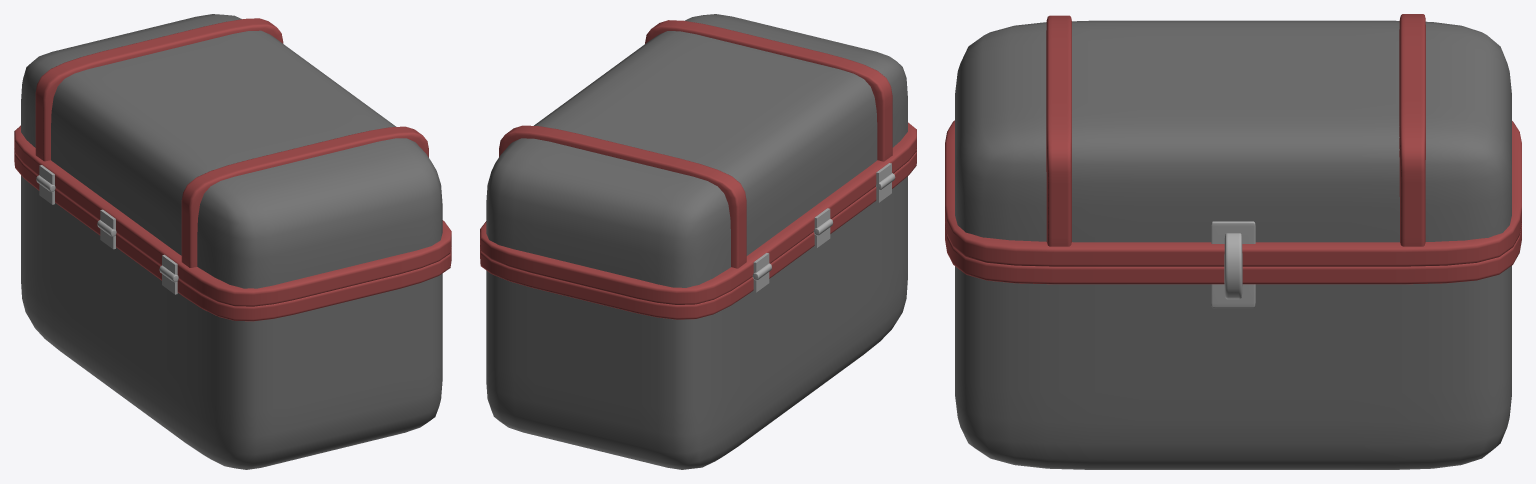
File: Chest_2.fbx
The picture shows the model from 3 angles, left to right: view 1: azimuth 30°, elevation 25°; view 2: azimuth 150°, elevation 25°; view 3: azimuth 270°, elevation 25°; orthographic projection. The views are drawn at different scales.
Visible parts, largest first — view 1: Chest_2; view 2: Chest_2; view 3: Chest_2.
Part boxes in pixels (bbox=[...]): Chest_2: bbox=[14, 14, 451, 469]; Chest_2: bbox=[480, 14, 916, 469]; Chest_2: bbox=[945, 14, 1521, 469].
Size of the model in its own units: 7.89 by 8.16 by 12.28.
